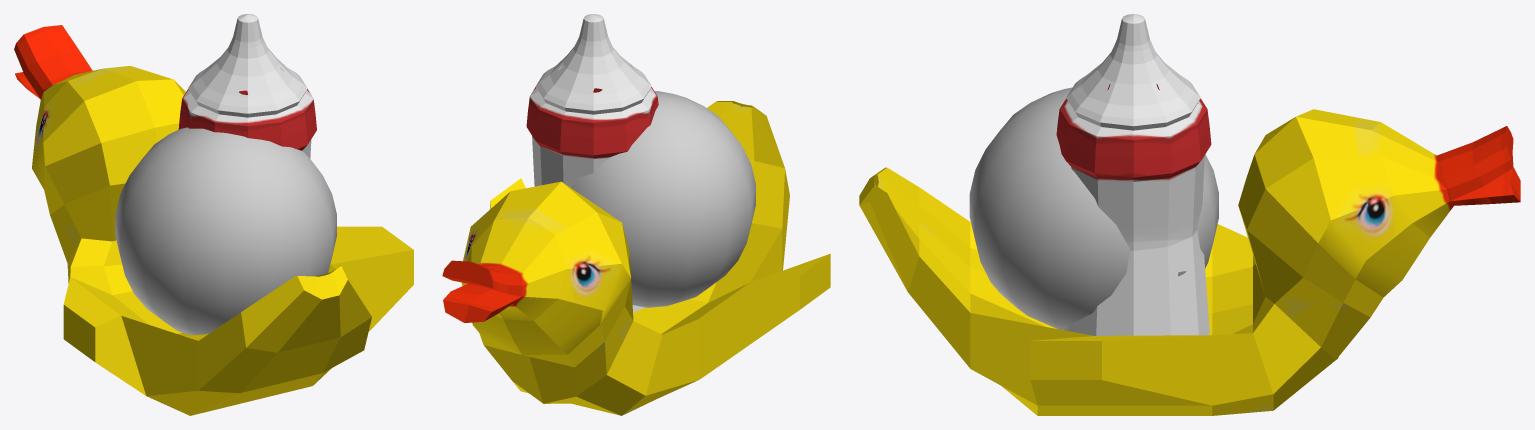
File: Toyv1.fbx
The picture shows the model from 3 angles, left to right: view 1: azimuth 30°, elevation 25°; view 2: azimuth 150°, elevation 25°; view 3: azimuth 270°, elevation 25°; orthographic projection. The views are drawn at different scales.
Visible parts, largest first — view 1: Toy, Ball1, MilkBottle1; view 2: Toy, Ball1, MilkBottle1; view 3: Toy, MilkBottle1, Ball1.
Boxes of the visible parts, x1,y1,x2,y2 form: Toy: (14,25,413,415); Ball1: (115,127,336,334); MilkBottle1: (178,14,316,158); Toy: (442,101,830,415); Ball1: (571,91,755,307); MilkBottle1: (526,14,658,312); Toy: (859,109,1520,415); MilkBottle1: (1056,14,1211,335); Ball1: (969,87,1218,329).
Size of the model in its own units: 5.89 by 6.11 by 9.41.
